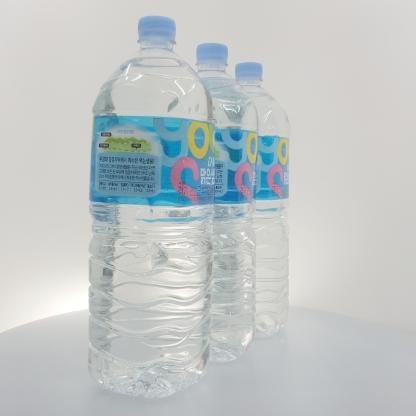--------1-5L: (88, 16, 214, 398)
